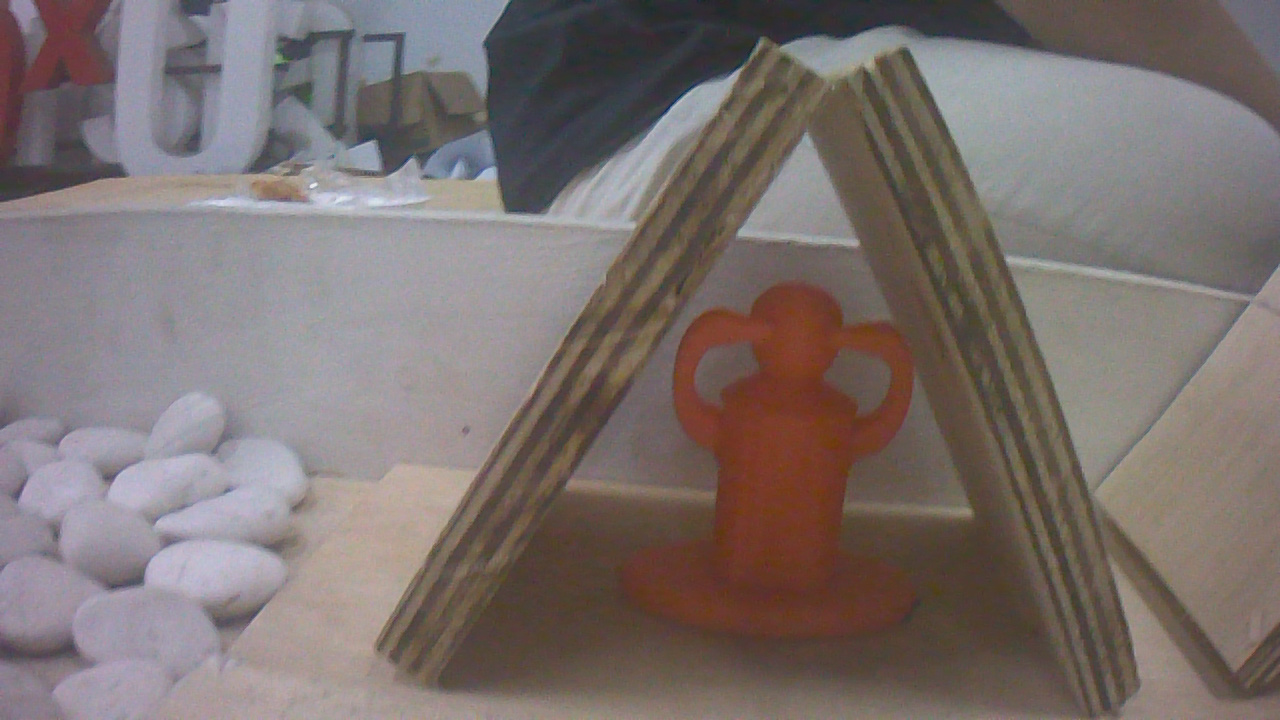real: (655, 269, 916, 640)
